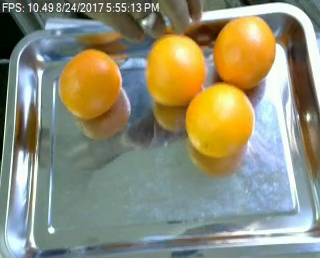Orange: (185, 83, 255, 158), (212, 14, 275, 88), (57, 48, 123, 118), (145, 34, 207, 106)
